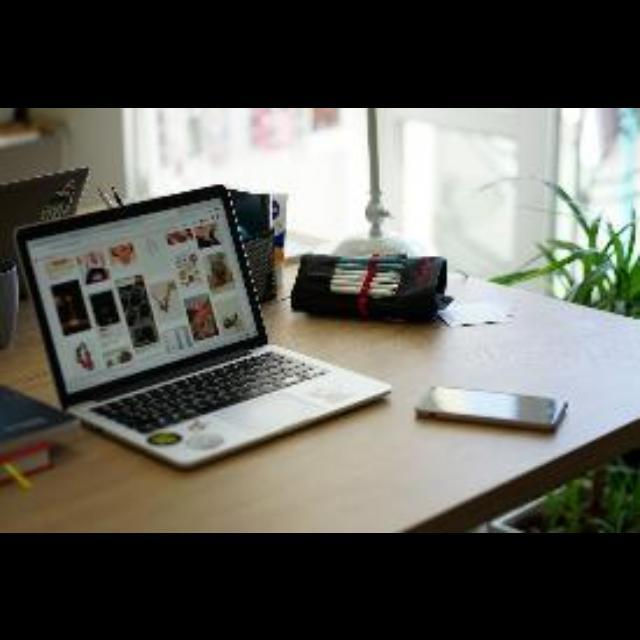Phone: (416, 386, 566, 434)
